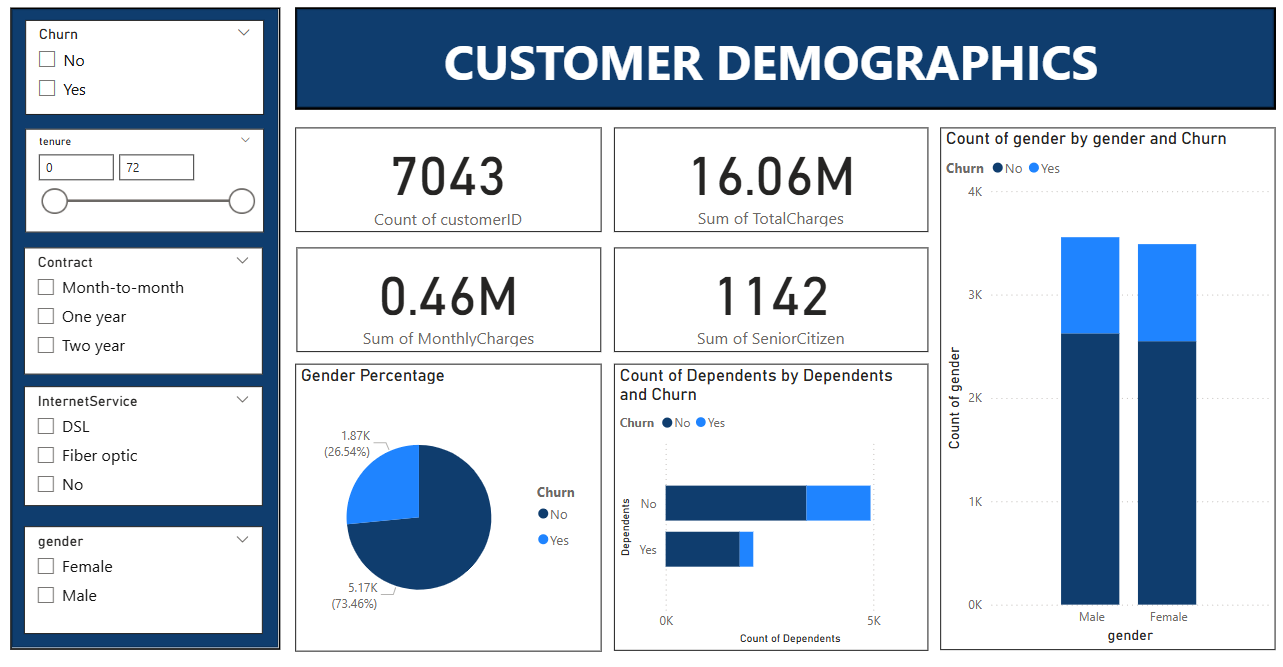

The page's visual inventory and layout, read from the dashboard file:
{"tool":"powerbi","page":{"name":"Customer Profile ","canvas":[1280,720],"ordinal":0},"visuals":[{"type":"card","title":"Customer at risk","fields":{"Values":["Count(01 Churn-Dataset.customerID)"]},"box":[295,152.3,304.6,104.3],"z":0},{"type":"pieChart","title":"Gender Percentage","fields":{"Y":["CountNonNull(01 Churn-Dataset.Partner)"],"Category":["01 Churn-Dataset.Churn"]},"box":[295,387,304.6,286.8],"z":1000},{"type":"card","fields":{"Values":["Sum(01 Churn-Dataset.TotalCharges)"]},"box":[612,152.3,312.9,104.3],"z":2000},{"type":"card","fields":{"Values":["Sum(01 Churn-Dataset.MonthlyCharges)"]},"box":[296.4,271.7,303.3,104.3],"z":3000},{"type":"shape","box":[11,32.9,269,639.5],"z":4000,"group":"g1"},{"type":"barChart","fields":{"Y":["CountNonNull(01 Churn-Dataset.Dependents)"],"Category":["01 Churn-Dataset.Dependents"],"Series":["01 Churn-Dataset.Churn"]},"box":[612,387,312.9,285.4],"z":4000},{"type":"shape","box":[295,32.9,975.6,101.5],"z":5000,"group":"g2"},{"type":"slicer","fields":{"Values":["01 Churn-Dataset.Churn"]},"box":[26.1,45.2,237.4,94.7],"z":5000,"group":"g1"},{"type":"columnChart","fields":{"Category":["01 Churn-Dataset.gender"],"Y":["CountNonNull(01 Churn-Dataset.gender)"],"Series":["01 Churn-Dataset.Churn"]},"box":[937.2,152.3,333.4,520.1],"z":5000},{"type":"textbox","box":[425.4,48,686.1,86.4],"z":6000,"group":"g2"},{"type":"slicer","fields":{"Values":["01 Churn-Dataset.tenure"]},"box":[26.1,153.7,237.4,102.9],"z":6000,"group":"g1"},{"type":"card","fields":{"Values":["Sum(01 Churn-Dataset.SeniorCitizen)"]},"box":[612,271.7,312.9,104.3],"z":6000},{"type":"group","id":"g1","title":"Group 1","box":[11,32.9,269,639.5],"z":7000},{"type":"slicer","fields":{"Values":["01 Churn-Dataset.Contract"]},"box":[24.7,271.7,237.4,126.2],"z":7000,"group":"g1"},{"type":"group","id":"g2","title":"Group 2","box":[295,32.9,975.6,101.5],"z":8000},{"type":"slicer","fields":{"Values":["01 Churn-Dataset.InternetService"]},"box":[24.7,410.3,237.4,119.4],"z":8000,"group":"g1"},{"type":"slicer","fields":{"Values":["01 Churn-Dataset.gender"]},"box":[24.7,548.9,237.4,107],"z":9000,"group":"g1"}]}

Visuals, with their boxes on the page's 1280x720 design canvas (x1, y1, x2, y2). These are canvas units, not pixel positions in the 1283x667 screenshot, which may show the page scaled, cropped or inside an application window:
"Customer at risk" card: region(295, 152, 600, 257)
"Gender Percentage" pieChart: region(295, 387, 600, 674)
card - Sum(01 Churn-Dataset.TotalCharges): region(612, 152, 925, 257)
card - Sum(01 Churn-Dataset.MonthlyCharges): region(296, 272, 600, 376)
shape: region(11, 33, 280, 672)
barChart - CountNonNull(01 Churn-Dataset.Dependents) x 01 Churn-Dataset.Dependents: region(612, 387, 925, 672)
shape: region(295, 33, 1271, 134)
slicer - 01 Churn-Dataset.Churn: region(26, 45, 264, 140)
columnChart - 01 Churn-Dataset.gender x CountNonNull(01 Churn-Dataset.gender): region(937, 152, 1271, 672)
textbox: region(425, 48, 1112, 134)
slicer - 01 Churn-Dataset.tenure: region(26, 154, 264, 257)
card - Sum(01 Churn-Dataset.SeniorCitizen): region(612, 272, 925, 376)
"Group 1" group: region(11, 33, 280, 672)
slicer - 01 Churn-Dataset.Contract: region(25, 272, 262, 398)
"Group 2" group: region(295, 33, 1271, 134)
slicer - 01 Churn-Dataset.InternetService: region(25, 410, 262, 530)
slicer - 01 Churn-Dataset.gender: region(25, 549, 262, 656)
